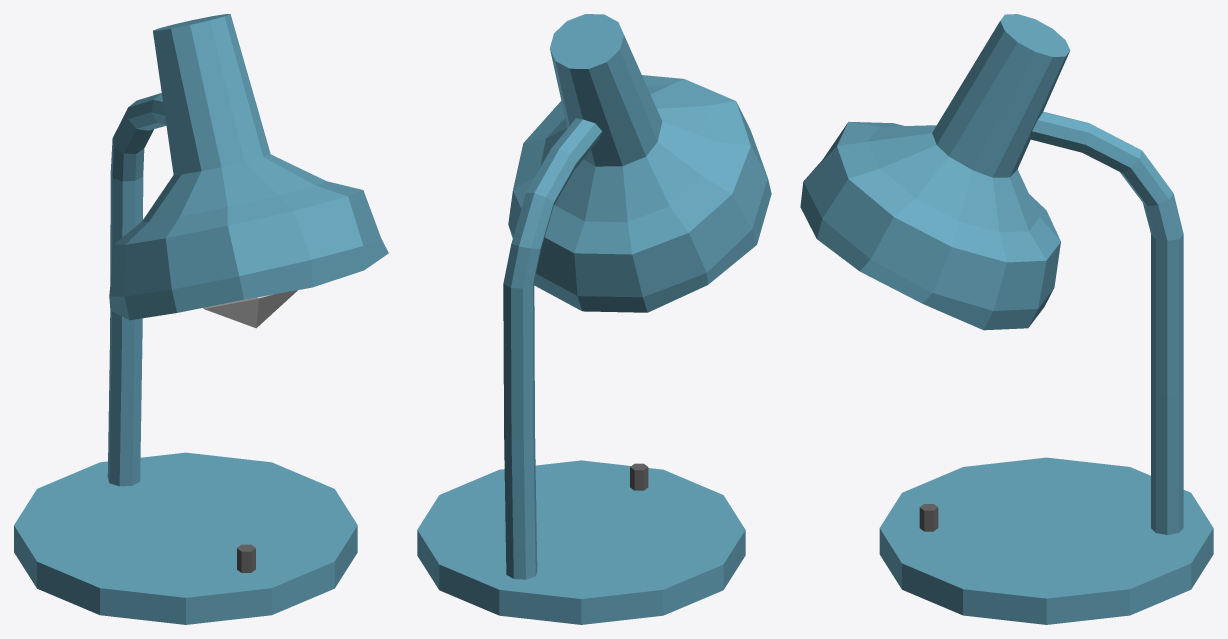
The model's file is Wh_Table_Lamp.fbx.
3 renders of one model, left to right at view 1: azimuth 30°, elevation 25°; view 2: azimuth 150°, elevation 25°; view 3: azimuth 270°, elevation 25°, orthographic. The views are drawn at different scales.
Parts seen in each view (by area): view 1: Cylinder.040; view 2: Cylinder.040; view 3: Cylinder.040.
Boxes of the visible parts, left/top/right/bottom form: Cylinder.040: left=14, top=14, right=388, bottom=624; Cylinder.040: left=417, top=14, right=771, bottom=624; Cylinder.040: left=800, top=14, right=1213, bottom=624.
Size of the model in its own units: 31.43 by 55.42 by 38.88.
